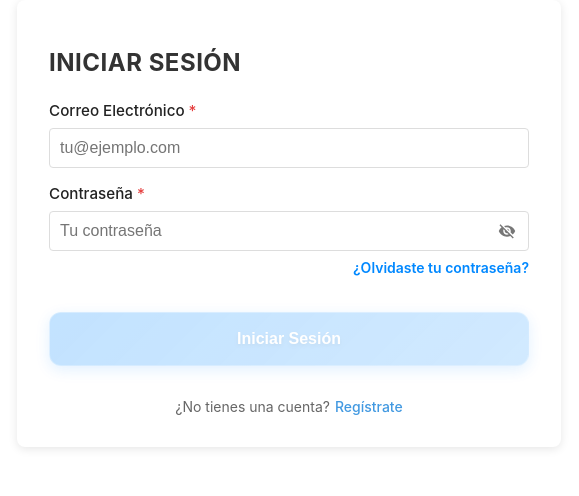
it: SignInForm - validaciones y envío del formulario › muestra error por contraseña demasiado corta y evita el envío
In the field labelled "Correo Electrónico*": x=289, y=148 [49, 128, 529, 168], type "usuario@ejemplo.com"
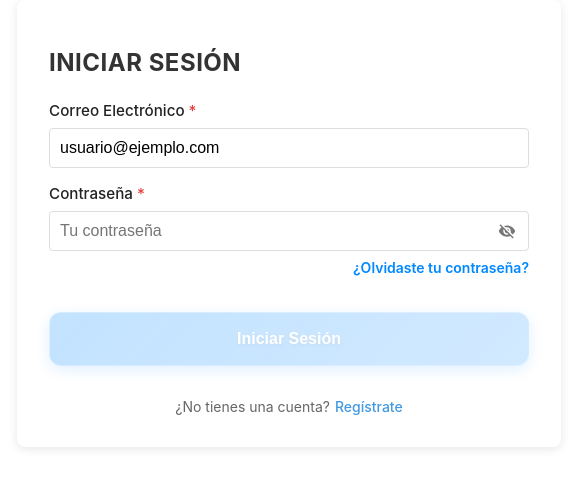
In the password field labelled "Contraseña*": x=289, y=231 [49, 211, 529, 251], type "123"
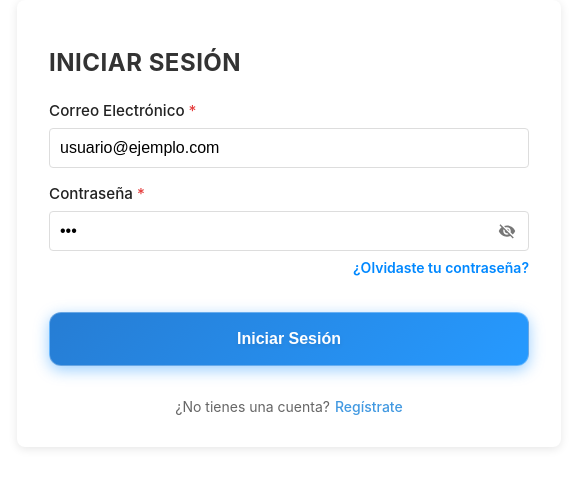
Click the button "Iniciar Sesión": x=289, y=339 [49, 312, 529, 366]
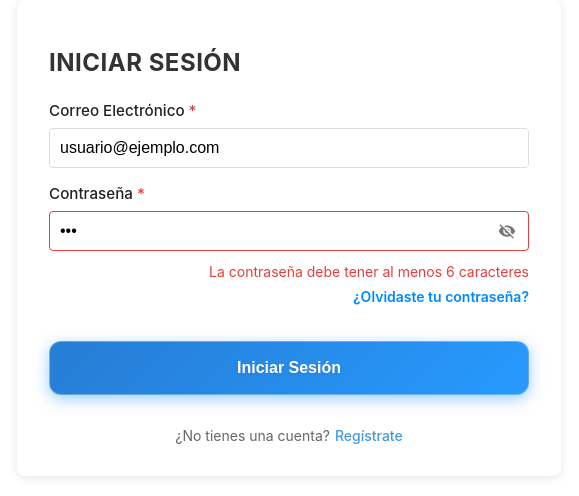
Now the text "La contraseña debe tener al menos 6 caracteres" is shown, box [209, 263, 529, 280]
